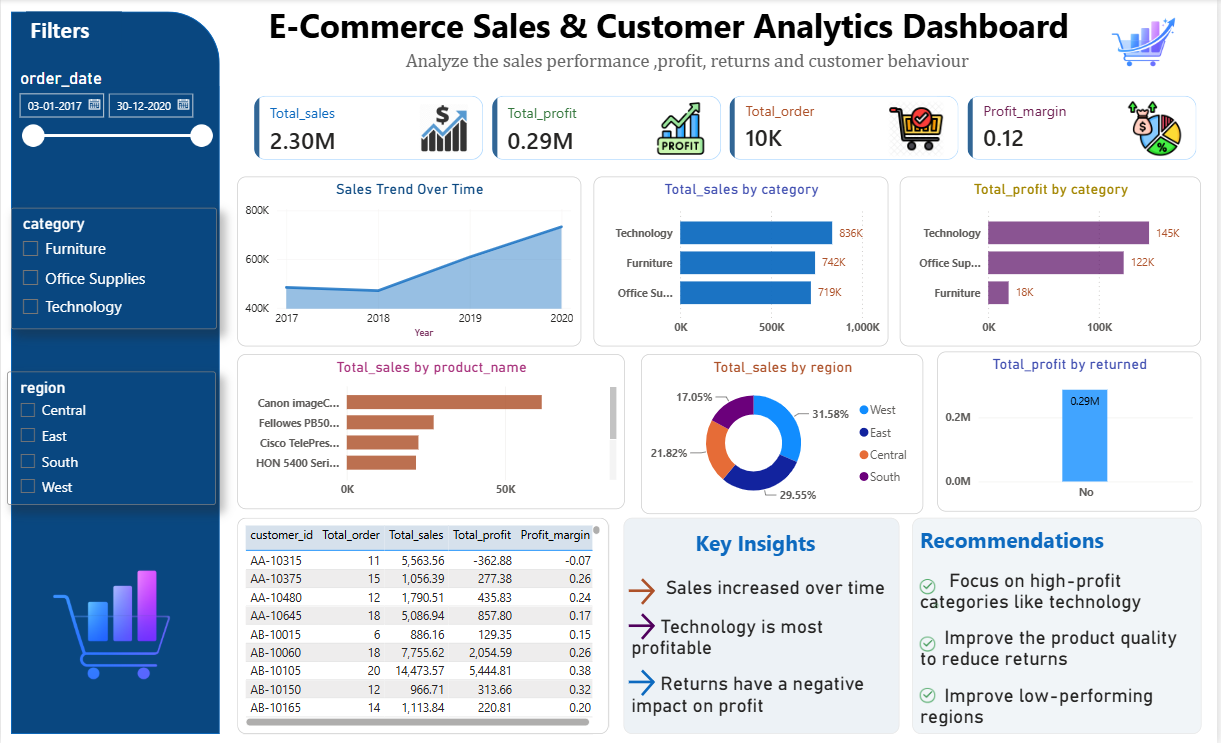

What the dashboard file says about the page in this screenshot:
{"tool":"powerbi","page":{"name":"sales & customer analytics","canvas":[1385,850],"ordinal":0},"visuals":[{"type":"shape","box":[11.4,14.2,237.9,823.2],"z":0},{"type":"slicer","fields":{"Values":["public final_data.order_date"]},"box":[8.4,73.6,241.3,153.2],"z":1000},{"type":"cardVisual","fields":{"Data":["public final_data.Total_sales","public final_data.Total_profit","public final_data.Total_order","public final_data.Profit_margin"]},"box":[269.2,91.2,1115.2,111.1],"z":2000},{"type":"slicer","fields":{"Values":["public final_data.region"]},"box":[7.1,424.4,237.9,152.4],"z":3000},{"type":"slicer","fields":{"Values":["public final_data.category"]},"box":[12.1,237.7,234,138.7],"z":4000},{"type":"textbox","box":[28.8,13.7,108.4,49.4],"z":5000},{"type":"textbox","box":[328,307.4,35.7,34.3],"z":6000},{"type":"image","box":[0,619.6,252.1,188],"z":7000},{"type":"lineChart","title":"Sales Trend Over Time","fields":{"Category":["public final_data.order_date.Variation.Date Hierarchy.Year"],"Y":["public final_data.Total_sales"]},"box":[269.2,202.2,391.7,193.7],"z":8000},{"type":"barChart","fields":{"Category":["public final_data.category"],"Y":["public final_data.Total_sales"]},"box":[675.1,202.2,336.1,193.7],"z":9000},{"type":"barChart","fields":{"Category":["public final_data.category"],"Y":["public final_data.Total_profit"]},"box":[1024.1,202.2,343.2,193.7],"z":10000},{"type":"clusteredBarChart","fields":{"Category":["public final_data.product_name"],"Y":["public final_data.Total_sales"]},"box":[269.2,404.5,441.5,176.6],"z":11000},{"type":"donutChart","fields":{"Category":["public final_data.region"],"Y":["public final_data.Total_sales"]},"box":[729.2,404.5,321.9,182.3],"z":12000},{"type":"columnChart","fields":{"Category":["public final_data.returned"],"Y":["public final_data.Total_profit"]},"box":[1066.8,401.6,300.5,182.3],"z":13000},{"type":"tableEx","fields":{"Values":["public final_data.customer_id","public final_data.Total_order","public final_data.Total_sales","public final_data.Total_profit","public final_data.Profit_margin"]},"box":[268.7,590.9,423.2,246.5],"z":14000},{"type":"textbox","box":[709.7,590.9,314.8,246.5],"z":15000},{"type":"actionButton","box":[709.7,654.8,90.6,40.1],"z":16000},{"type":"actionButton","box":[709.7,694.9,63.8,40.1],"z":17000},{"type":"actionButton","box":[709.7,758.7,63.8,40.1],"z":18000},{"type":"textbox","box":[1037.9,590.9,329.6,246.5],"z":19000},{"type":"image","box":[1011.1,654.8,89.1,31.2],"z":20000},{"type":"image","box":[1021.5,686,89.1,10.4],"z":21000},{"type":"image","box":[1011.1,720.1,89.1,31.2],"z":22000},{"type":"image","box":[1011.1,779.5,89.1,31.2],"z":23000},{"type":"textbox","box":[268.7,0,1097.3,90.6],"z":24000},{"type":"image","box":[1217.8,0,166.6,101.1],"z":25000}]}

Visuals, with their boxes in screenshot pixels (x1, y1, x2, y2), scaled from the page's 1385x850 canvas onto the 1221x743 screenshot:
shape: x1=10, y1=12, x2=220, y2=732
slicer - public final_data.order_date: x1=7, y1=64, x2=220, y2=198
cardVisual - public final_data.Total_sales x public final_data.Total_profit: x1=237, y1=80, x2=1220, y2=177
slicer - public final_data.region: x1=6, y1=371, x2=216, y2=504
slicer - public final_data.category: x1=11, y1=208, x2=217, y2=329
textbox: x1=25, y1=12, x2=121, y2=55
textbox: x1=289, y1=269, x2=321, y2=299
image: x1=0, y1=542, x2=222, y2=706
"Sales Trend Over Time" lineChart: x1=237, y1=177, x2=583, y2=346
barChart - public final_data.category x public final_data.Total_sales: x1=595, y1=177, x2=891, y2=346
barChart - public final_data.category x public final_data.Total_profit: x1=903, y1=177, x2=1205, y2=346
clusteredBarChart - public final_data.product_name x public final_data.Total_sales: x1=237, y1=354, x2=627, y2=508
donutChart - public final_data.region x public final_data.Total_sales: x1=643, y1=354, x2=927, y2=513
columnChart - public final_data.returned x public final_data.Total_profit: x1=940, y1=351, x2=1205, y2=510
tableEx - public final_data.customer_id x public final_data.Total_order: x1=237, y1=517, x2=610, y2=732
textbox: x1=626, y1=517, x2=903, y2=732
actionButton: x1=626, y1=572, x2=706, y2=607
actionButton: x1=626, y1=607, x2=682, y2=642
actionButton: x1=626, y1=663, x2=682, y2=698
textbox: x1=915, y1=517, x2=1206, y2=732
image: x1=891, y1=572, x2=970, y2=600
image: x1=901, y1=600, x2=979, y2=609
image: x1=891, y1=629, x2=970, y2=657
image: x1=891, y1=681, x2=970, y2=709
textbox: x1=237, y1=0, x2=1204, y2=79
image: x1=1074, y1=0, x2=1220, y2=88
